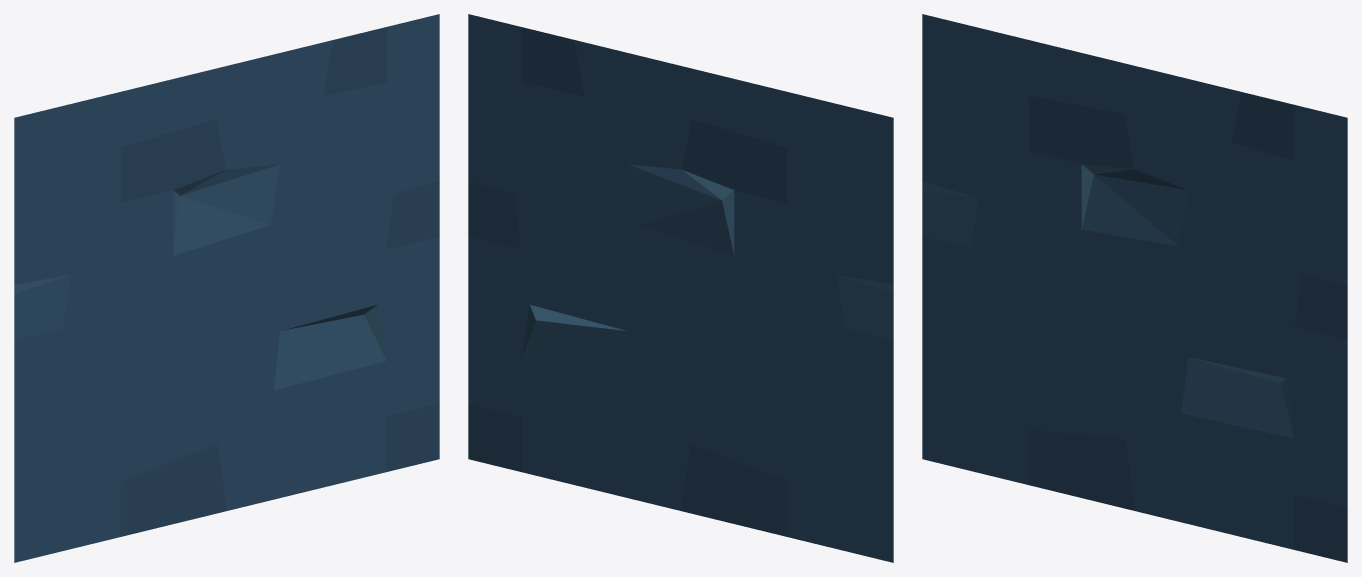
The model's file is wall_4m_back.fbx.
The picture shows the model from 3 angles, left to right: view 1: azimuth 30°, elevation 25°; view 2: azimuth 150°, elevation 25°; view 3: azimuth 330°, elevation 25°; orthographic projection.
Parts seen in each view (by area): view 1: wall_4m_back; view 2: wall_4m_back; view 3: wall_4m_back.
Part boxes in pixels (bbox=[...]): wall_4m_back: bbox=[14, 14, 439, 562]; wall_4m_back: bbox=[468, 14, 893, 562]; wall_4m_back: bbox=[922, 14, 1347, 562].
Size of the model in its own units: 400 by 400 by 6.42.
